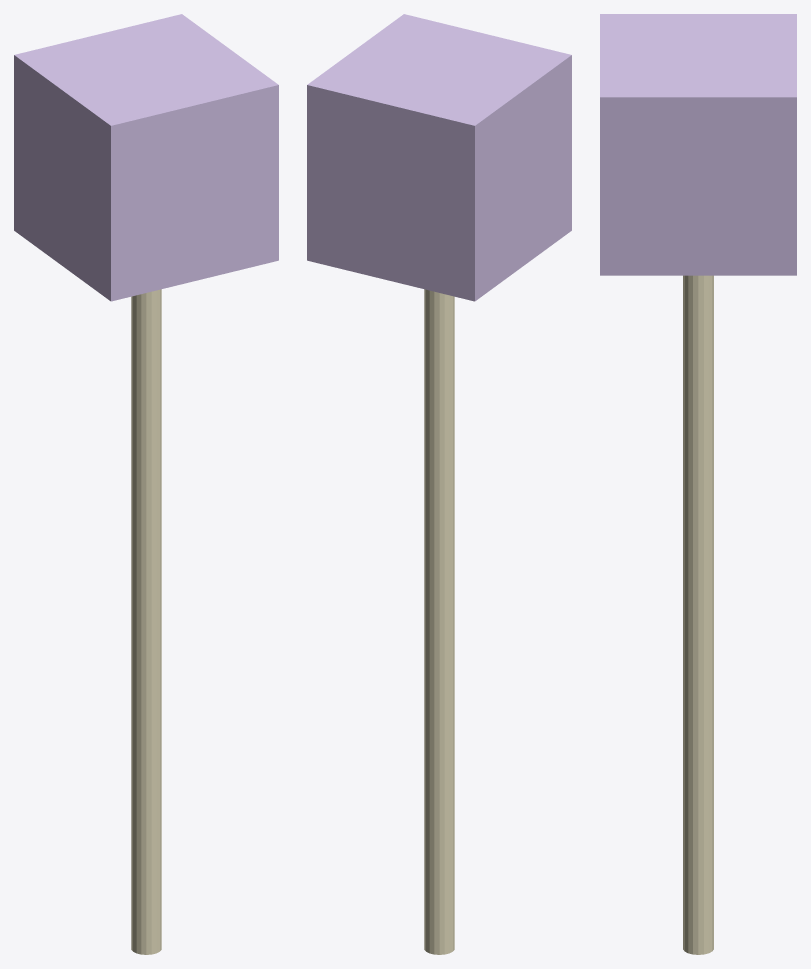
The picture shows the model from 3 angles, left to right: view 1: azimuth 30°, elevation 25°; view 2: azimuth 150°, elevation 25°; view 3: azimuth 270°, elevation 25°; orthographic projection.
Visible parts, largest first — view 1: scaley; view 2: scaley; view 3: scaley.
Part boxes in pixels (x1,y1,x2,y2): scaley: (14,14,278,954); scaley: (307,14,571,954); scaley: (600,14,796,954).
Bounding box in the file's own units: 0.25 × 0.25 × 1.25.
